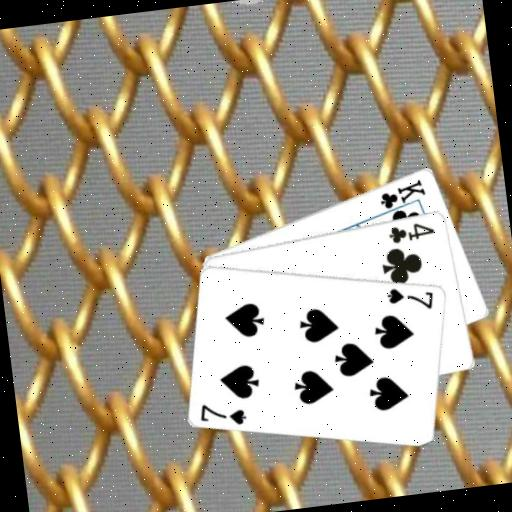4C: (385, 217, 438, 246)
7S: (384, 280, 438, 315), (196, 396, 250, 431)
KC: (373, 175, 430, 218)
